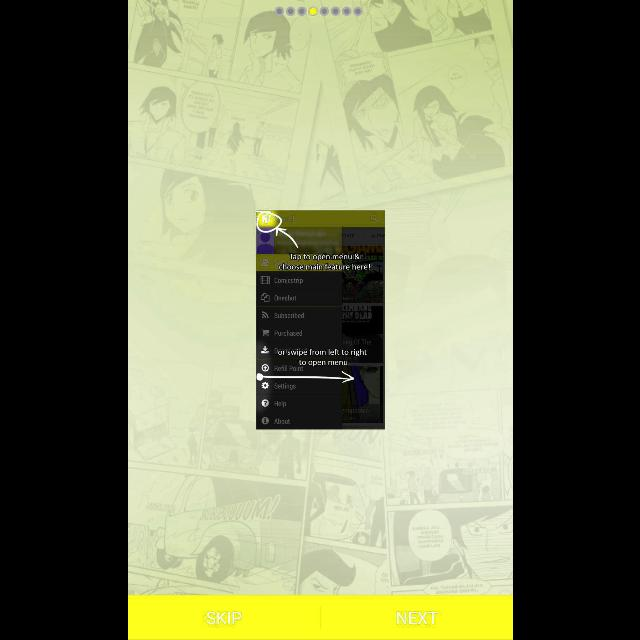backgroundimage: (128, 1, 512, 595)
image: (256, 210, 384, 430)
pageindicator: (274, 7, 362, 17)
textbutton: (128, 596, 320, 640), (320, 596, 512, 640)
